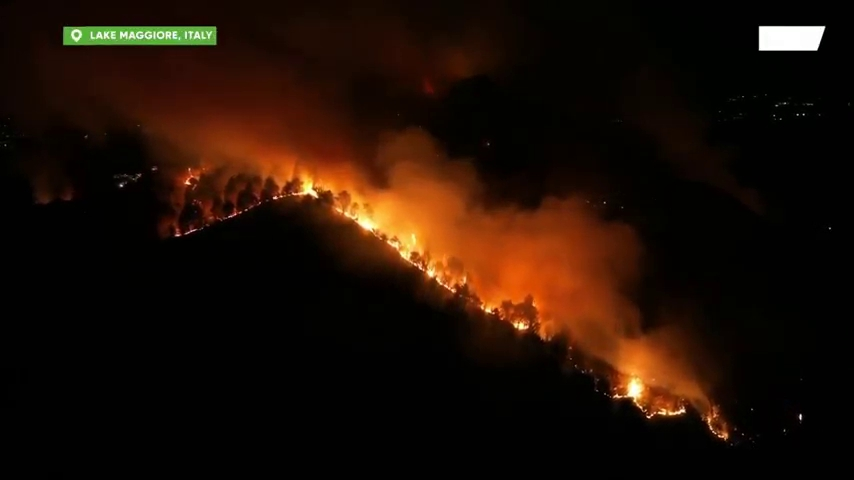forest_fire: (172, 176, 547, 335), (584, 368, 687, 417), (697, 405, 729, 440), (181, 168, 200, 188), (575, 365, 581, 366)
